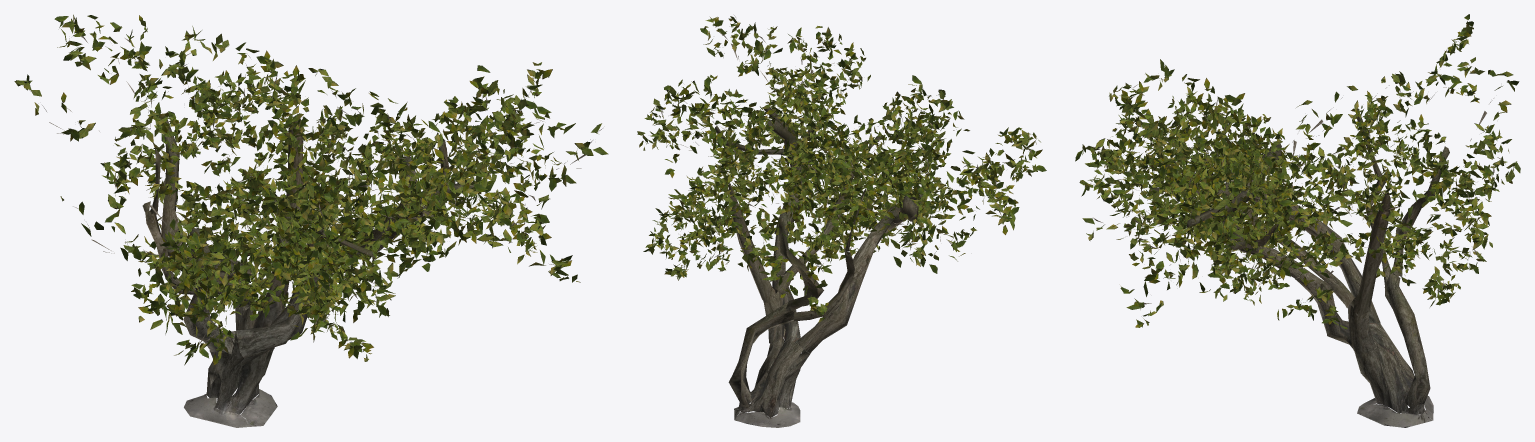
File: ph_island_tree_02_lod1.glb
The picture shows the model from 3 angles, left to right: view 1: azimuth 30°, elevation 25°; view 2: azimuth 150°, elevation 25°; view 3: azimuth 270°, elevation 25°; orthographic projection. The views are drawn at different scales.
Visible parts, largest first — view 1: ph_island_tree_02_lod1; view 2: ph_island_tree_02_lod1; view 3: ph_island_tree_02_lod1.
Boxes of the visible parts, left/top/right/bottom form: ph_island_tree_02_lod1: left=14, top=14, right=608, bottom=427; ph_island_tree_02_lod1: left=637, top=15, right=1046, bottom=427; ph_island_tree_02_lod1: left=1075, top=14, right=1520, bottom=427.
Size of the model in its own units: 3.85 by 3.41 by 4.04.
Materials: 3 (3 with a texture image).
